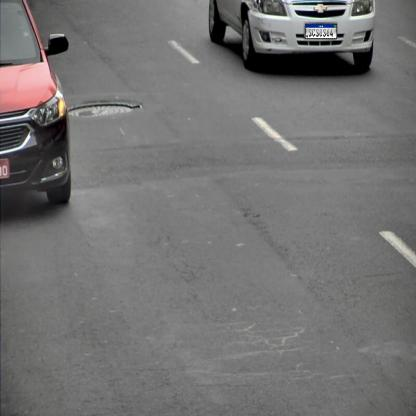PlacaM: (305, 23, 337, 39)
